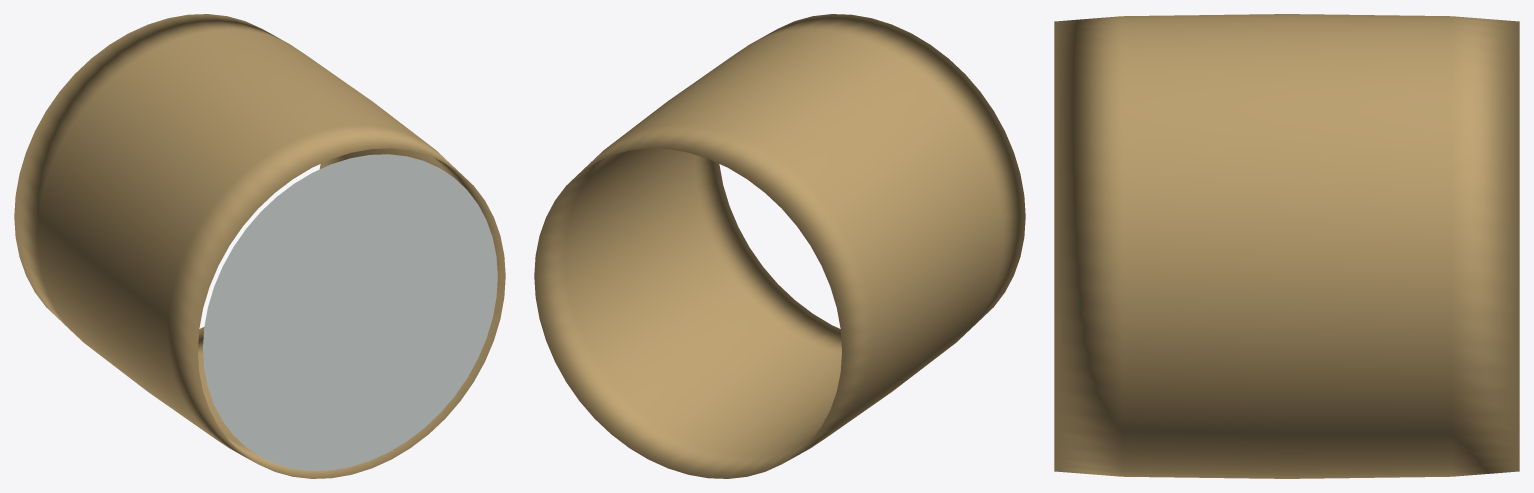
File: studio-mirror-brass.glb
3 views of the same model, side by side, from view 1: azimuth 30°, elevation 25°; view 2: azimuth 150°, elevation 25°; view 3: azimuth 270°, elevation 25° (orthographic). The views are drawn at different scales.
Visible parts, largest first — view 1: part (×2); view 2: part; view 3: part.
Part boxes in pixels (x1,y1,x2,y2): part (×2): [14, 14, 505, 478]; part: [534, 14, 1025, 478]; part: [1054, 14, 1519, 478].
Size of the model in its own units: 1 by 1 by 1.
